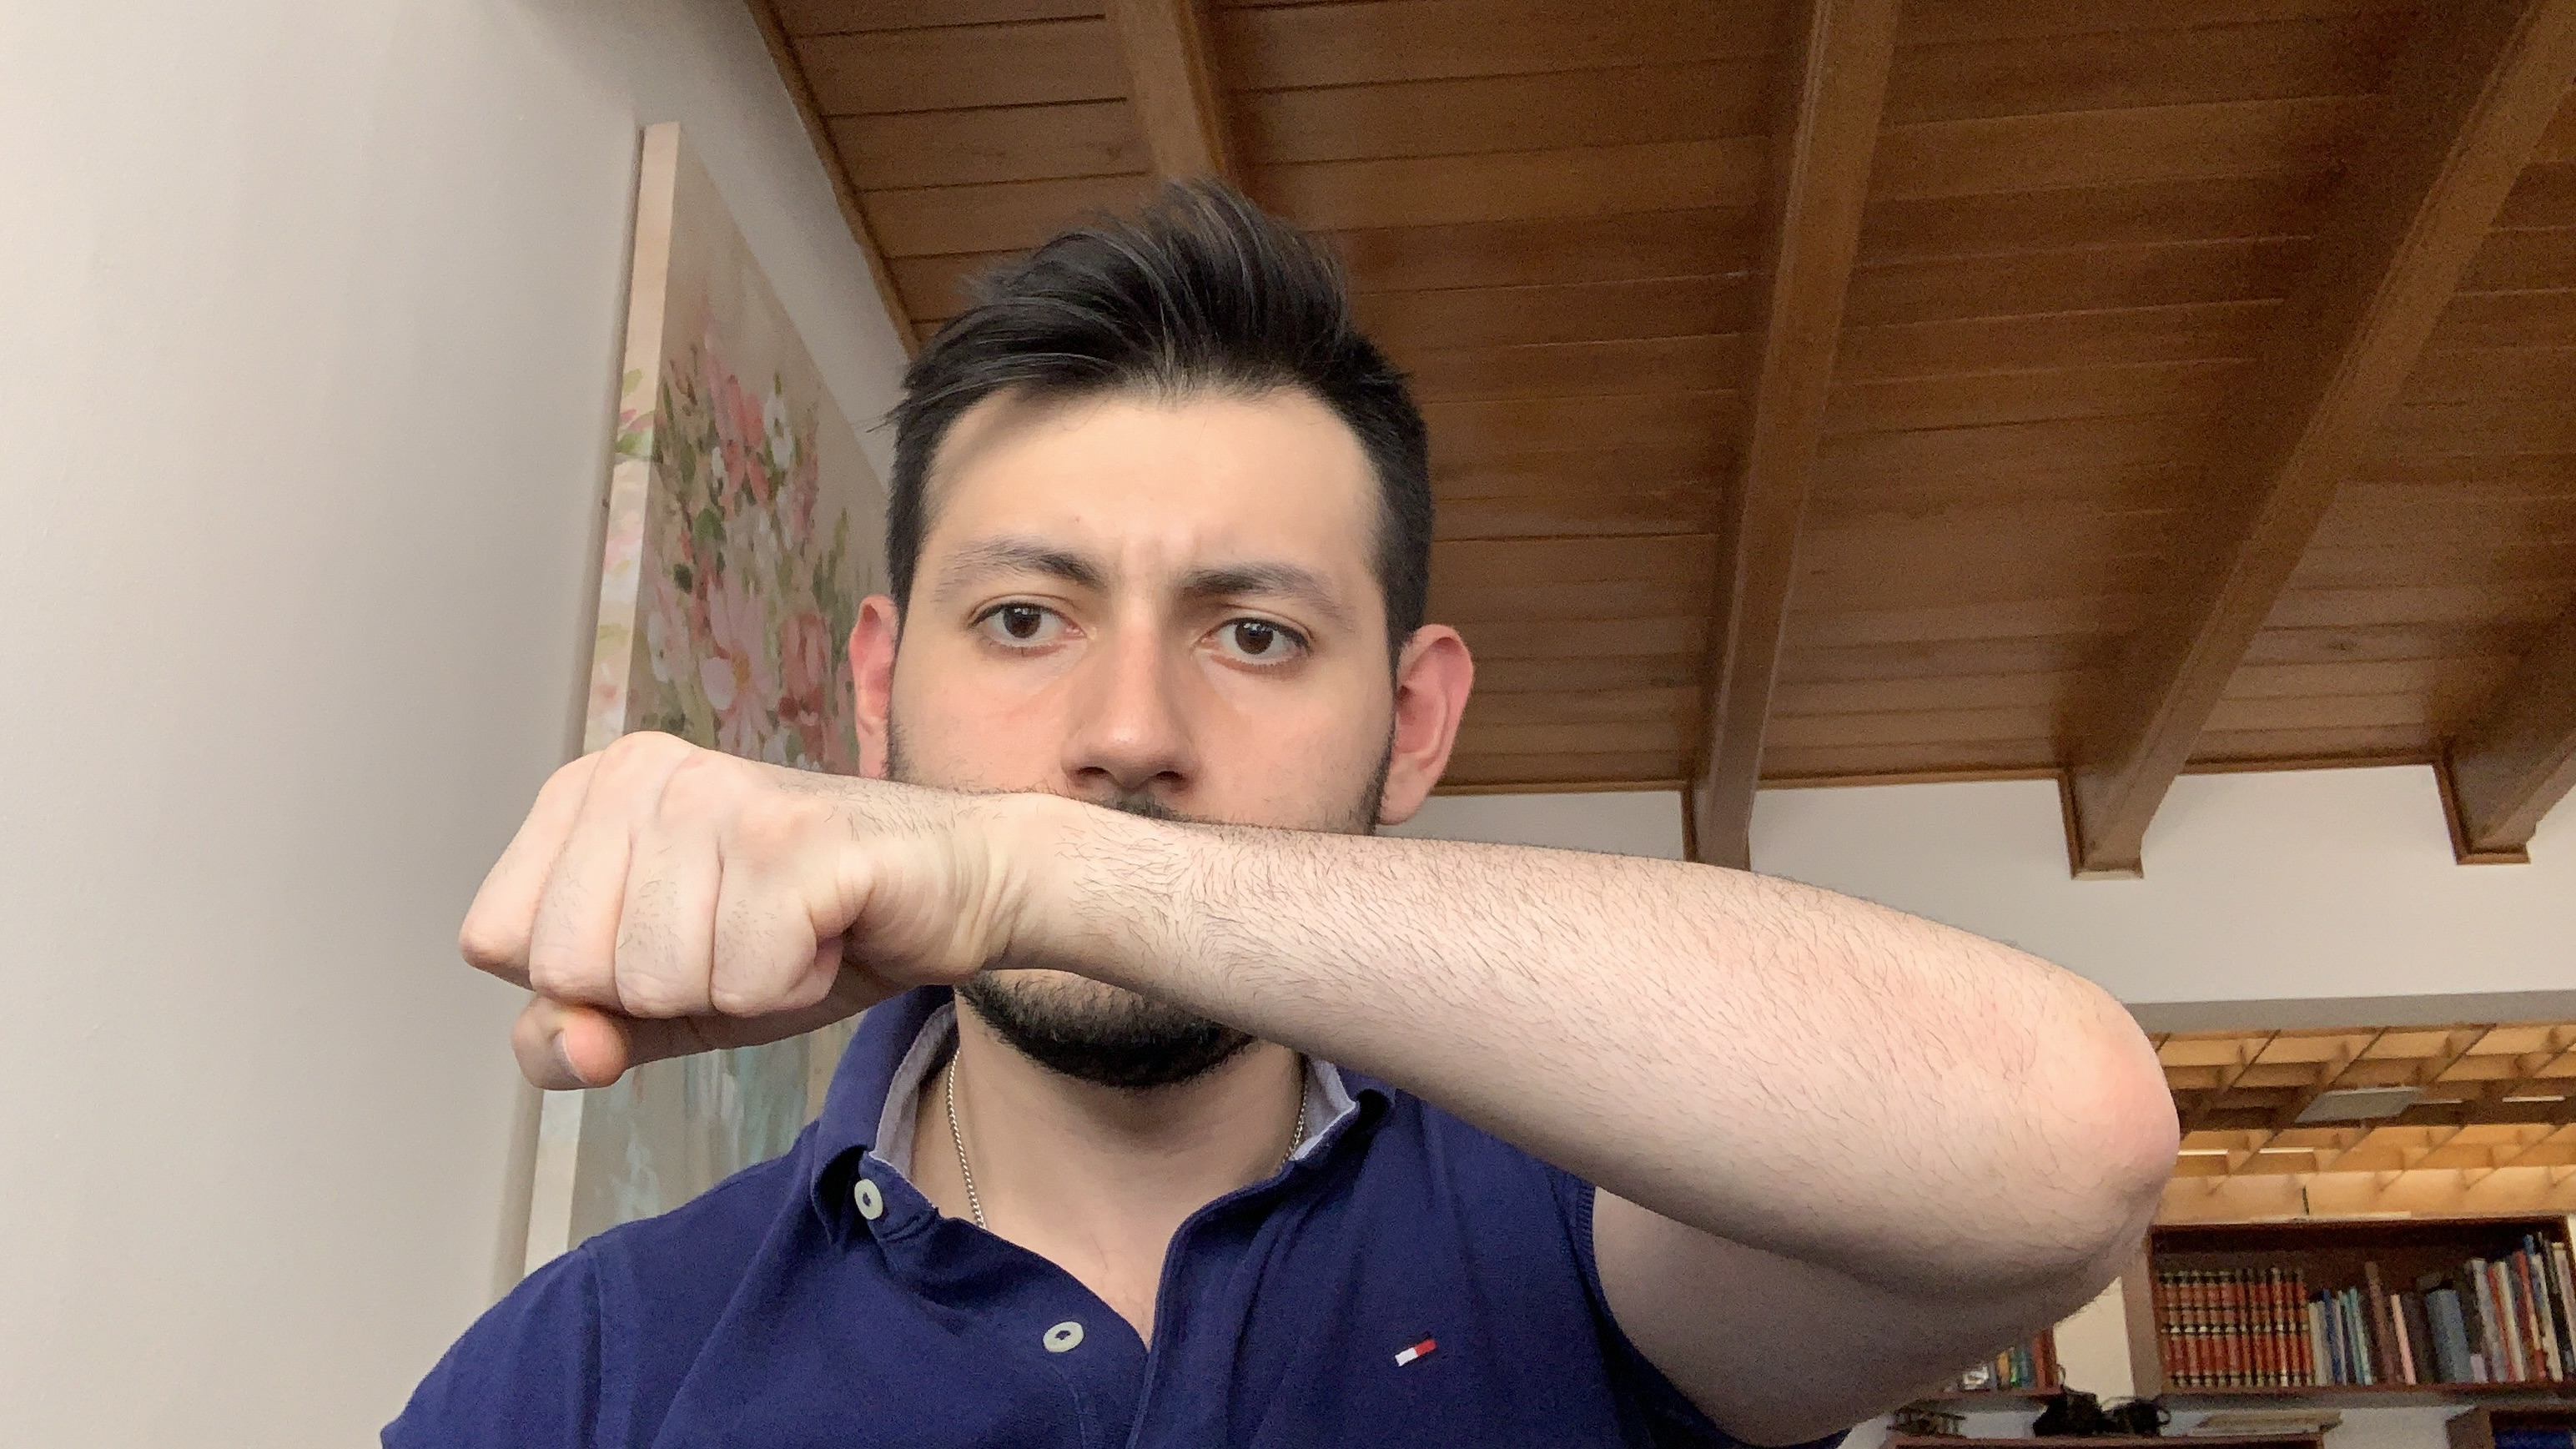Yes: (441, 717, 1001, 1115)
